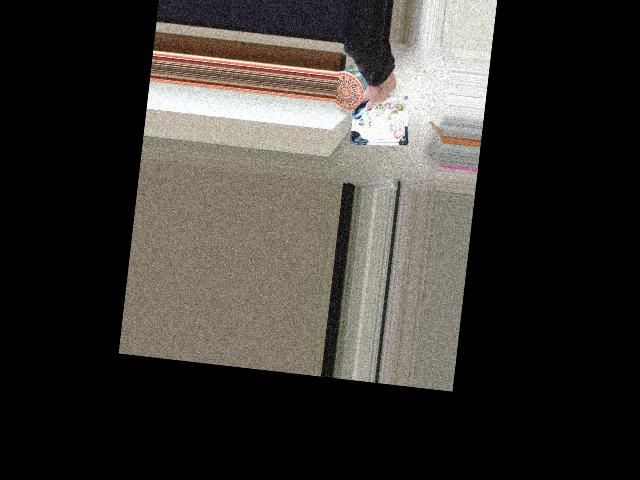cheese: (351, 72, 414, 138)
